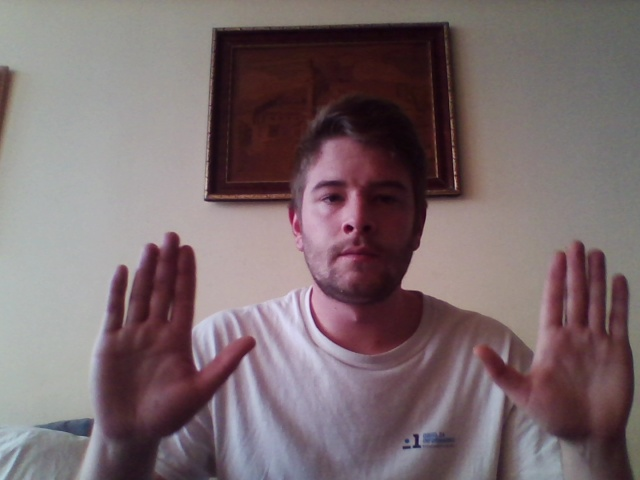prekrasno: (86, 229, 640, 437)
